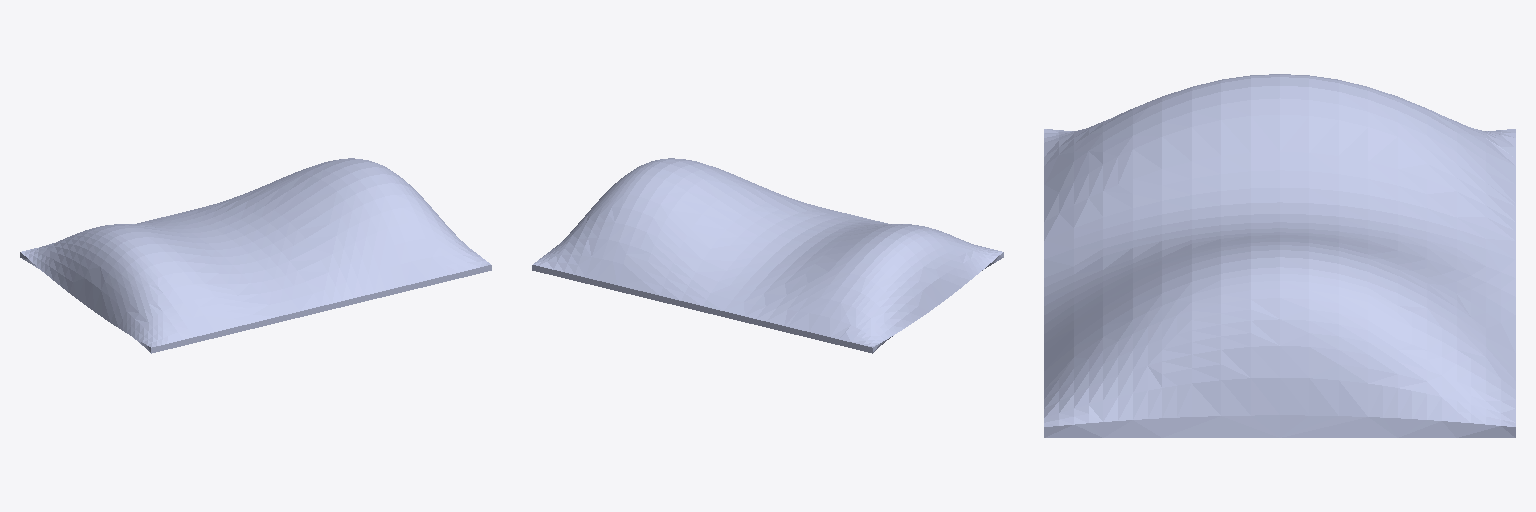
The robot description file, URDF, robot "floor_feature_1":
<?xml version="1.0" encoding="utf-8"?>
<!-- This URDF was automatically created by SolidWorks to URDF Exporter! Originally created by [author] ([email redacted]) 
     Commit Version: 1.6.0-1-g15f4949  Build Version: 1.6.7594.29634
     For more information, please see http://wiki.ros.org/sw_urdf_exporter -->
<robot
  name="floor_feature_1">
  <link
    name="base_link">
    <inertial>
      <origin
        xyz="0.158597572802047 0.0999999496125036 0.0171067838173732"
        rpy="0 0 0" />
      <mass
        value="1.65343770803125" />
      <inertia
        ixx="0.0039560872789418"
        ixy="3.28439263277275E-10"
        ixz="-0.000272424739880401"
        iyy="0.0123317958798133"
        iyz="1.69978681544598E-09"
        izz="0.0157879932556987" />
    </inertial>
    <visual>
      <origin
        xyz="0 0 0"
        rpy="0 0 0" />
      <geometry>
        <mesh
          filename="package://floor_feature_1/meshes/base_link.STL" scale="10 10 10"/>
      </geometry>
      <material
        name="">
        <color
          rgba="0.792156862745098 0.819607843137255 0.933333333333333 1" />
      </material>
    </visual>
    <collision>
      <origin
        xyz="0 0 0"
        rpy="0 0 0" />
      <geometry>
        <mesh
          filename="package://floor_feature_1/meshes/base_link.STL" scale="10 10 10"/>
      </geometry>
    </collision>
  </link>

<gazebo>
<static> true </static>
</gazebo>

<gazebo reference = 'base_link'>
<material> Gazebo/Sand_Floor </material>
</gazebo>
</robot>

--- What the picture shows (computed from the rendered views, not written in the file) ---
The picture shows the robot from 3 angles, left to right: view 1: azimuth 30°, elevation 25°; view 2: azimuth 150°, elevation 25°; view 3: azimuth 270°, elevation 25°; orthographic projection.
Robot: floor_feature_1 — 1 links, 0 joints (none); root link base_link; default pose: every joint at zero.
Visible links, largest first — view 1: base_link; view 2: base_link; view 3: base_link.
Boxes of the visible links, x1=… form: base_link: x1=20, y1=158, x2=491, y2=353; base_link: x1=532, y1=158, x2=1003, y2=353; base_link: x1=1044, y1=74, x2=1515, y2=437.
Size in the robot's own frame: 3 by 2 by 0.5827 metres.
Meshes: 1 distinct files referenced, 1 mesh visuals loaded (1 binary STL).